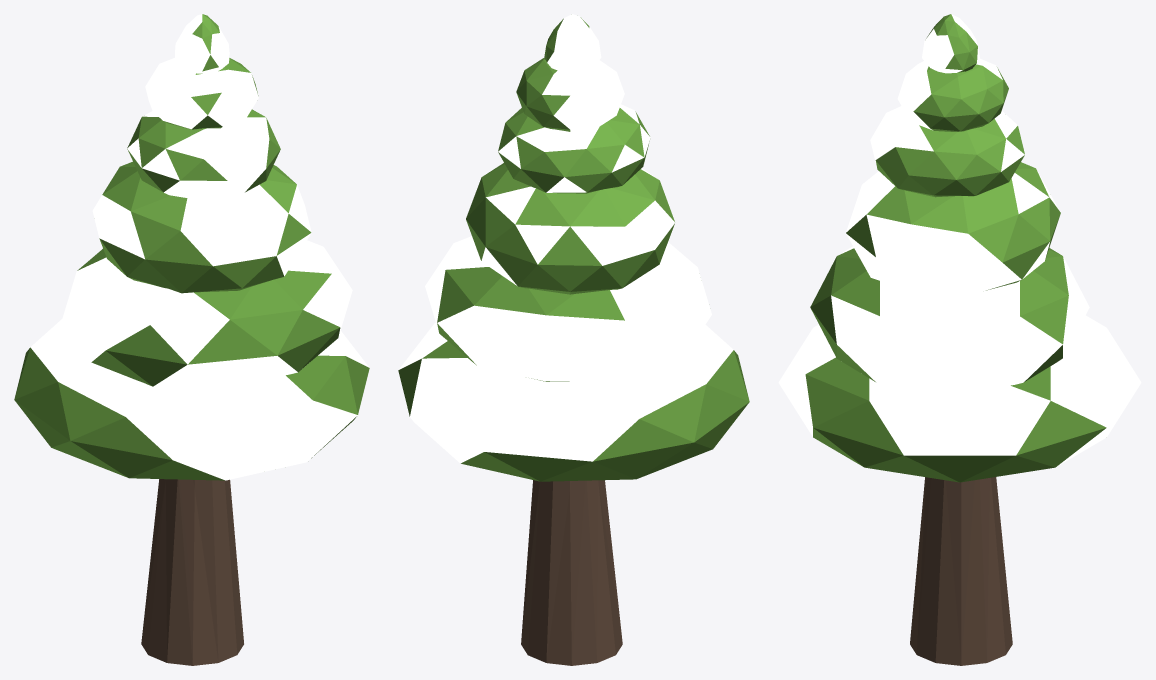
File: tree_christmas_snow_2.glb
3 renders of one model, left to right at view 1: azimuth 30°, elevation 25°; view 2: azimuth 150°, elevation 25°; view 3: azimuth 270°, elevation 25°, orthographic.
Visible parts, largest first — view 1: tree_0036.002; view 2: tree_0036.002; view 3: tree_0036.002.
Part boxes in pixels (x1=…): tree_0036.002: x1=14, y1=14, x2=369, y2=665; tree_0036.002: x1=398, y1=14, x2=749, y2=665; tree_0036.002: x1=778, y1=14, x2=1141, y2=665.
Size of the model in its own units: 1.89 by 3.81 by 1.99.
